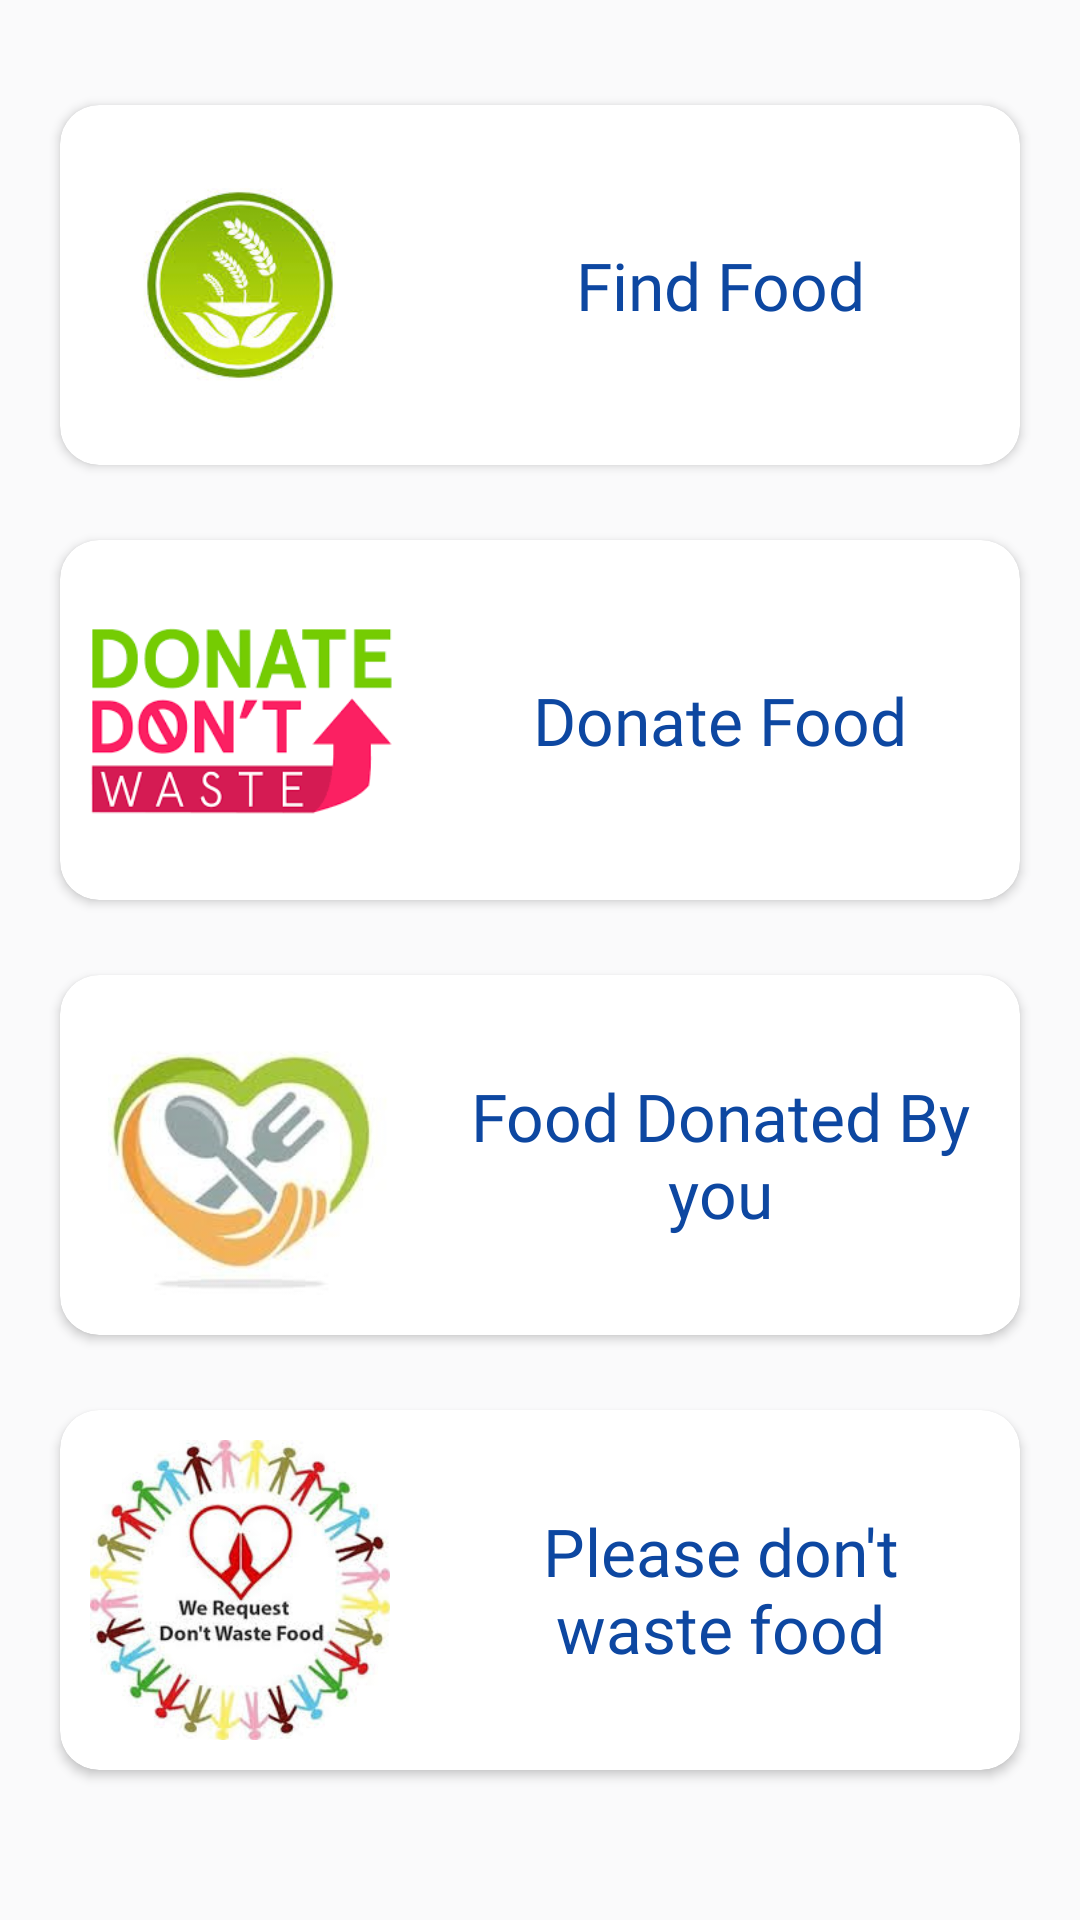

Locate icon controls on the screen. Image size 1080 × 1920, boxes as (x1, y1, x2, y2).
your donations: (61, 995, 371, 1287)
